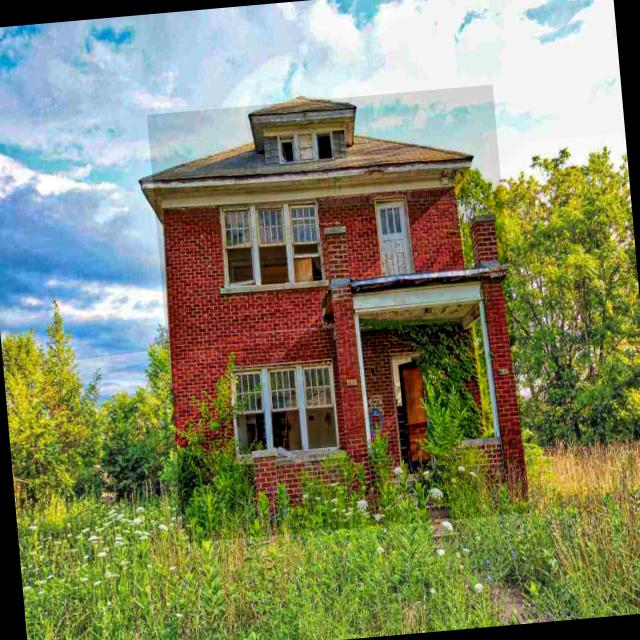House: (146, 84, 530, 543)
